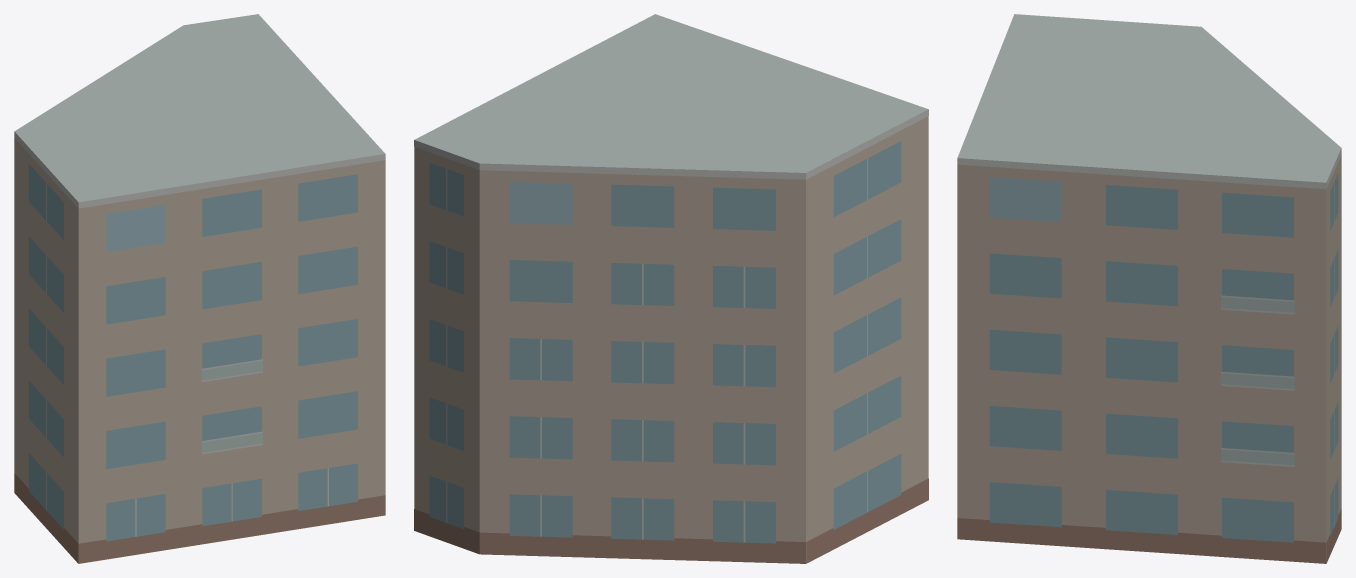
The model's file is survey-upis-32736237.glb.
3 renders of one model, left to right at view 1: azimuth 30°, elevation 25°; view 2: azimuth 150°, elevation 25°; view 3: azimuth 270°, elevation 25°, orthographic. The views are drawn at different scales.
Visible parts, largest first — view 1: survey-upis-32736237.tmp; view 2: survey-upis-32736237.tmp; view 3: survey-upis-32736237.tmp.
Part boxes in pixels (x1=…): survey-upis-32736237.tmp: x1=14, y1=14, x2=385, y2=563; survey-upis-32736237.tmp: x1=414, y1=14, x2=928, y2=563; survey-upis-32736237.tmp: x1=957, y1=14, x2=1341, y2=563.
Size of the model in its own units: 13.44 by 14.15 by 12.94.
